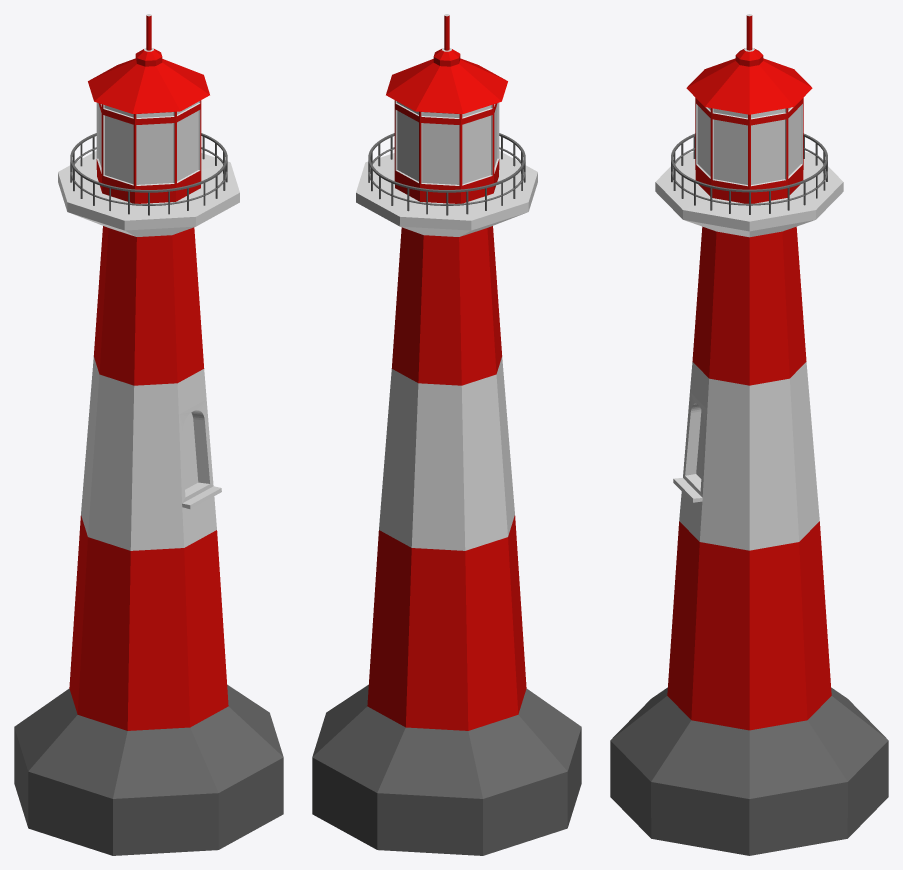
File: Lighthouse.fbx
The picture shows the model from 3 angles, left to right: view 1: azimuth 30°, elevation 25°; view 2: azimuth 150°, elevation 25°; view 3: azimuth 270°, elevation 25°; orthographic projection.
Parts seen in each view (by area): view 1: Маяк, Circle.001, Circle; view 2: Маяк, Circle.001, Circle; view 3: Маяк, Circle.001, Circle.
Boxes of the visible parts, bbox=[...] form: Маяк: bbox=[14, 14, 283, 855]; Circle.001: bbox=[70, 133, 227, 205]; Circle: bbox=[70, 136, 227, 215]; Маяк: bbox=[312, 14, 581, 855]; Circle.001: bbox=[368, 133, 525, 205]; Circle: bbox=[368, 136, 525, 215]; Маяк: bbox=[610, 14, 888, 855]; Circle.001: bbox=[671, 133, 827, 205]; Circle: bbox=[671, 136, 827, 214].
Size of the model in its own units: 301 by 935 by 301.
